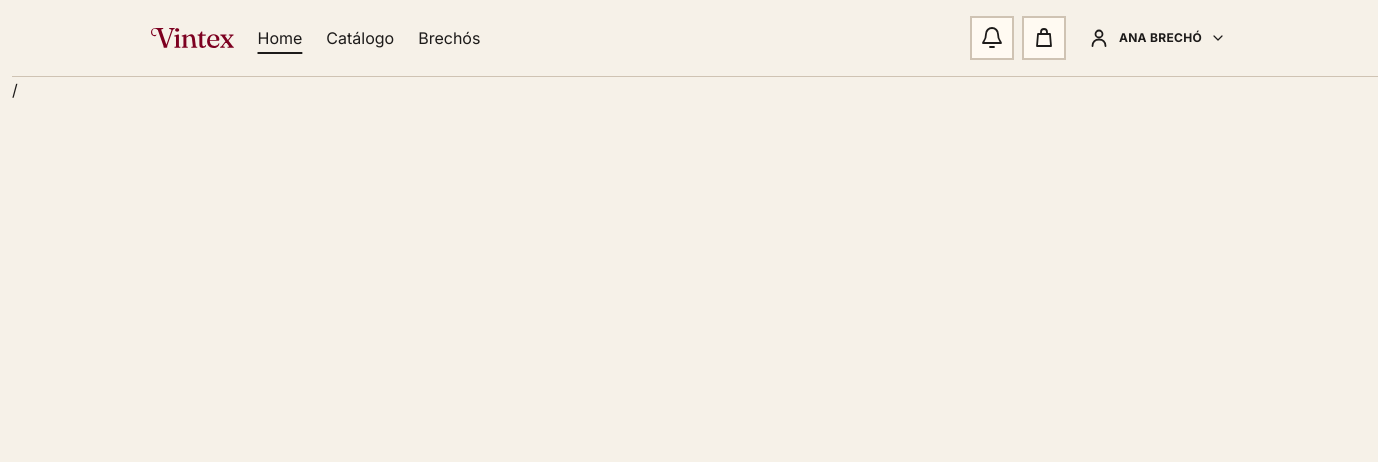
<Header /> › FE-FND-6: navegação da Sprint 3 › logado: Meus favoritos navega para sua rota e fecha o menu
Click the button "Ana Brechó" at (1156, 38), box left=1074, top=16, right=1239, bottom=60
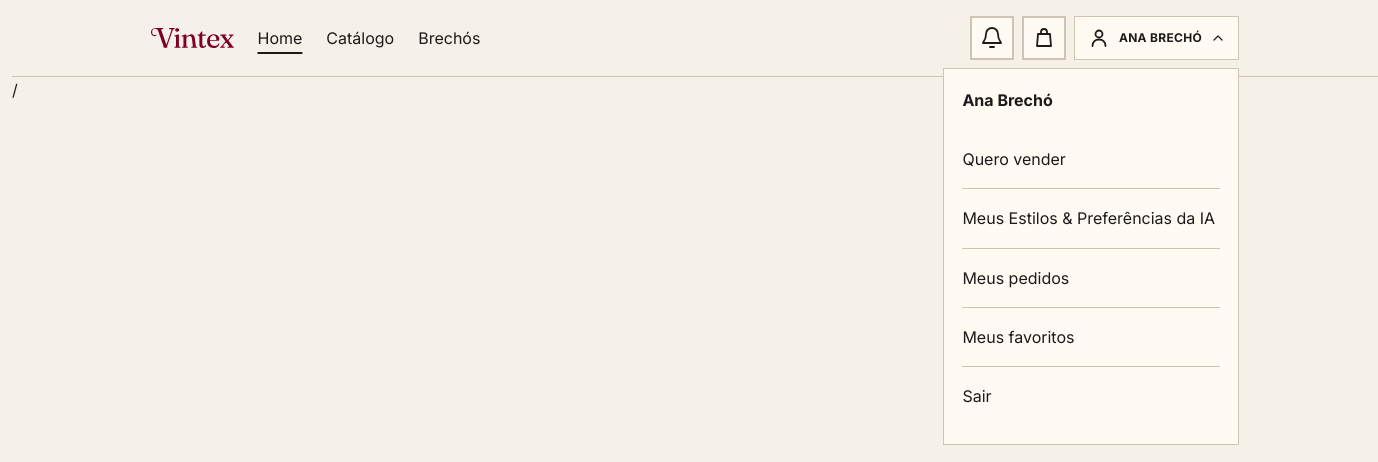
Click the button "Meus favoritos" at (1091, 337), box left=962, top=308, right=1220, bottom=366
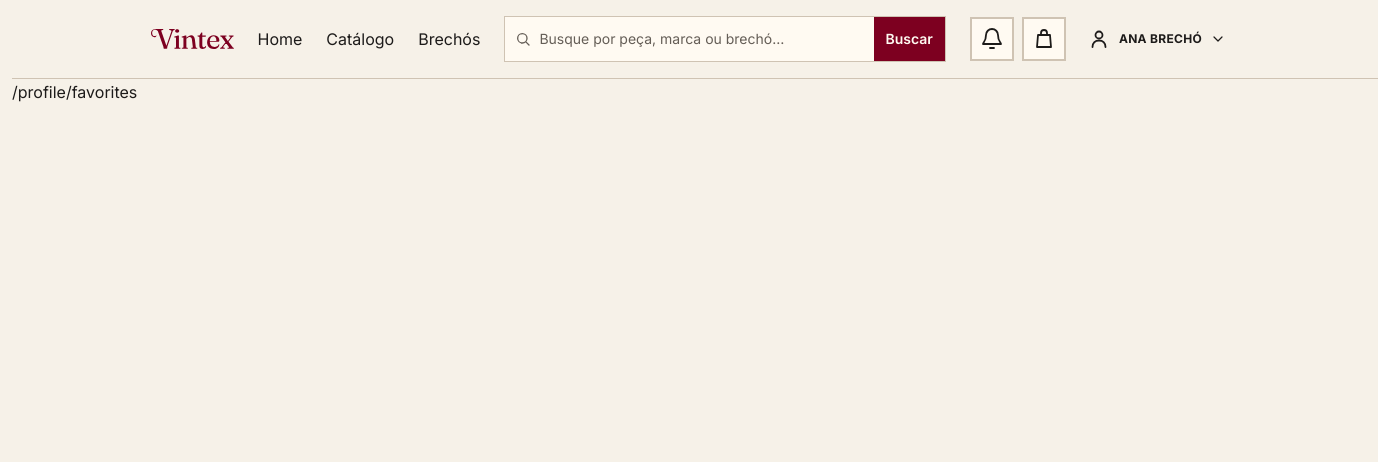
Check: the text with test id "path" reads "/profile/favorites", box left=12, top=82, right=137, bottom=102
Check: the button "Sair" is gone
